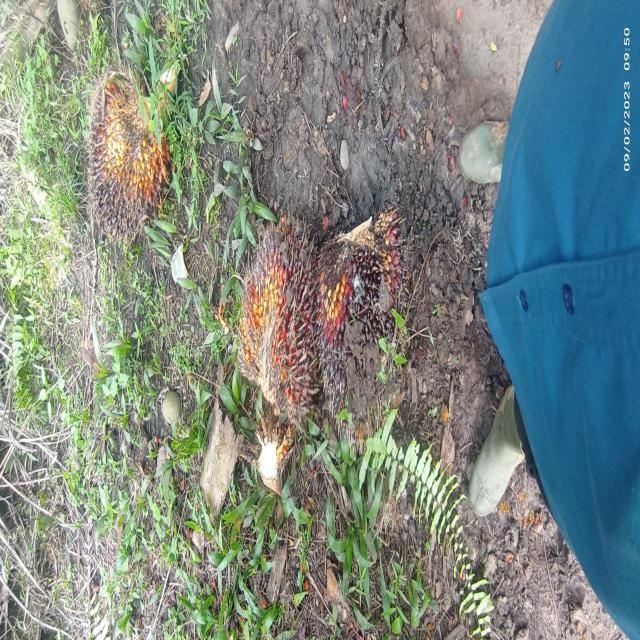fraksi 00: (70, 46, 182, 268), (314, 208, 420, 433)
fraksi 3: (230, 203, 322, 453)
